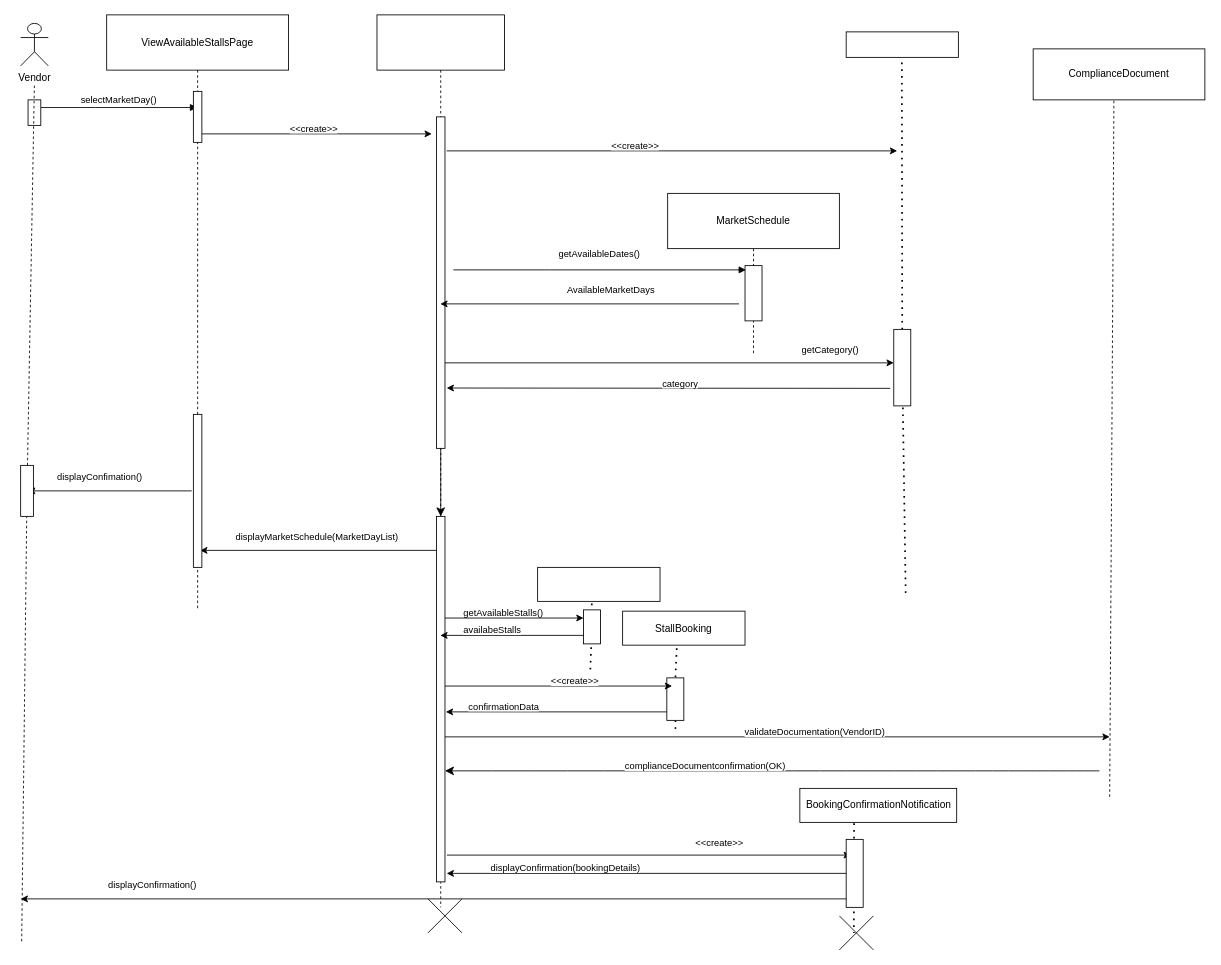
Image size: 1221x965. Some labels were removed from this diagram. The shapes that lost their labels are listed below. From the top down, each one's box as (x1, y1, x2, y2) in pixels, then its label:
(845, 31, 958, 57): VendorProfile
(376, 14, 504, 907): BookStallControl
(537, 567, 660, 601): StallCatalog
